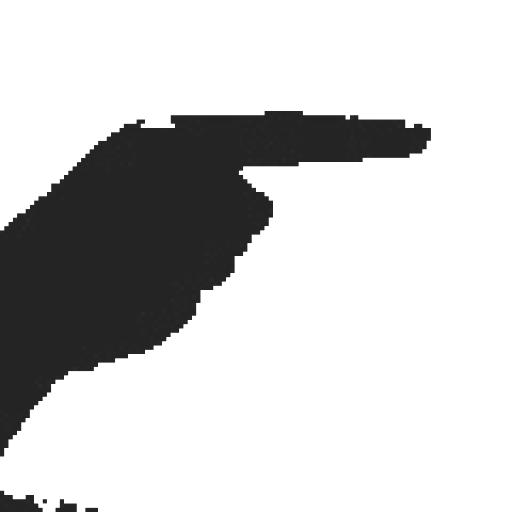index_right: (0, 108, 432, 319)
